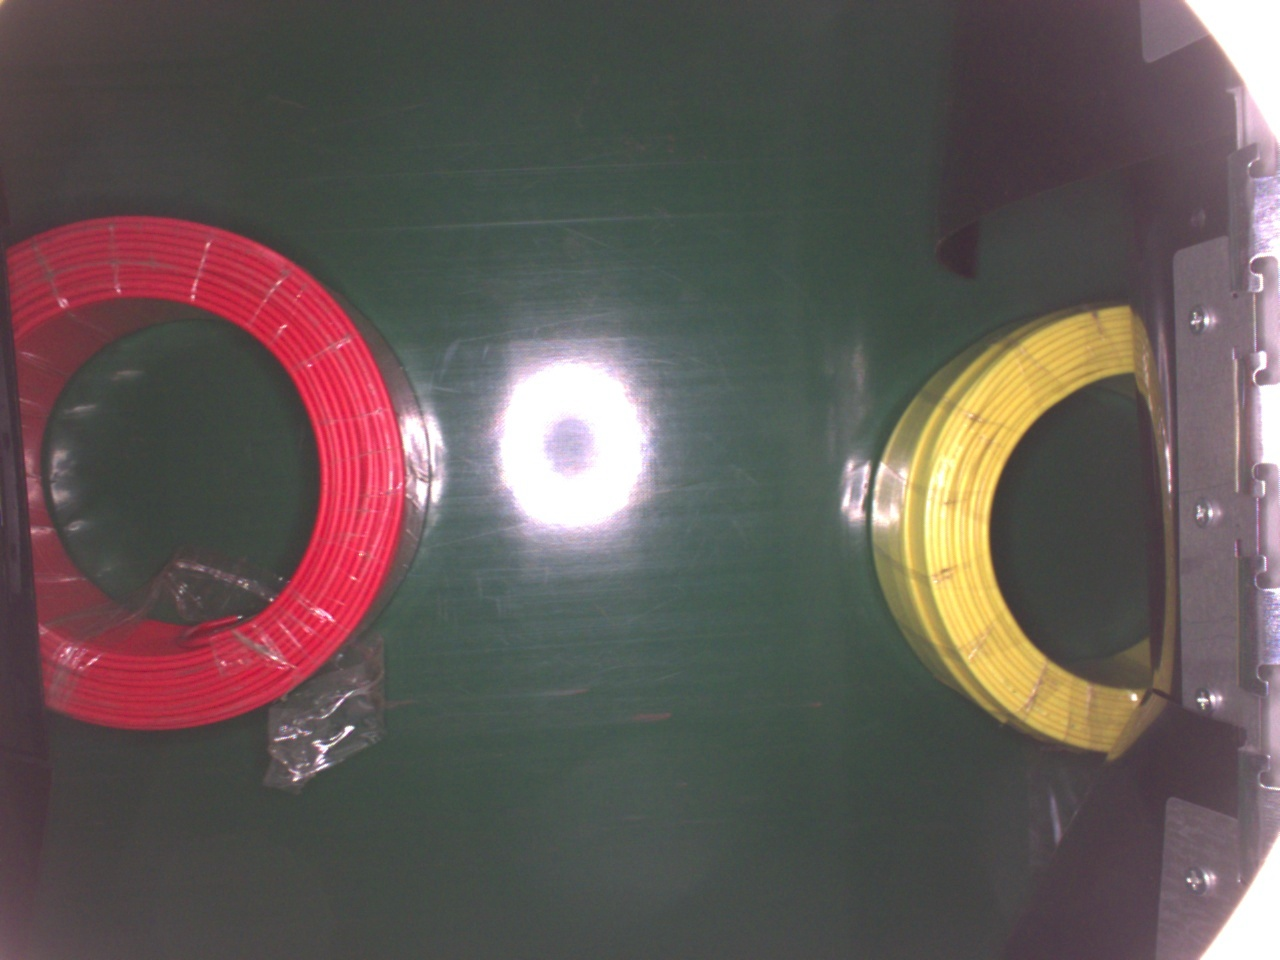red: (0, 210, 432, 732)
yellow: (867, 301, 1135, 765)
